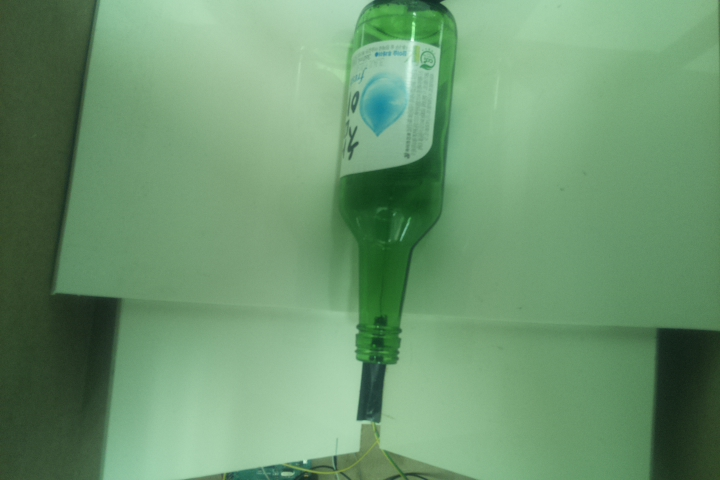soju: (334, 1, 458, 366)
